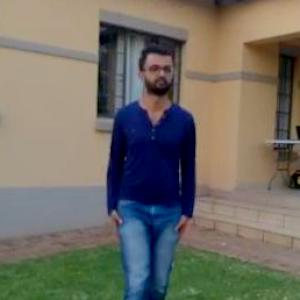follow: (102, 35, 201, 299)
